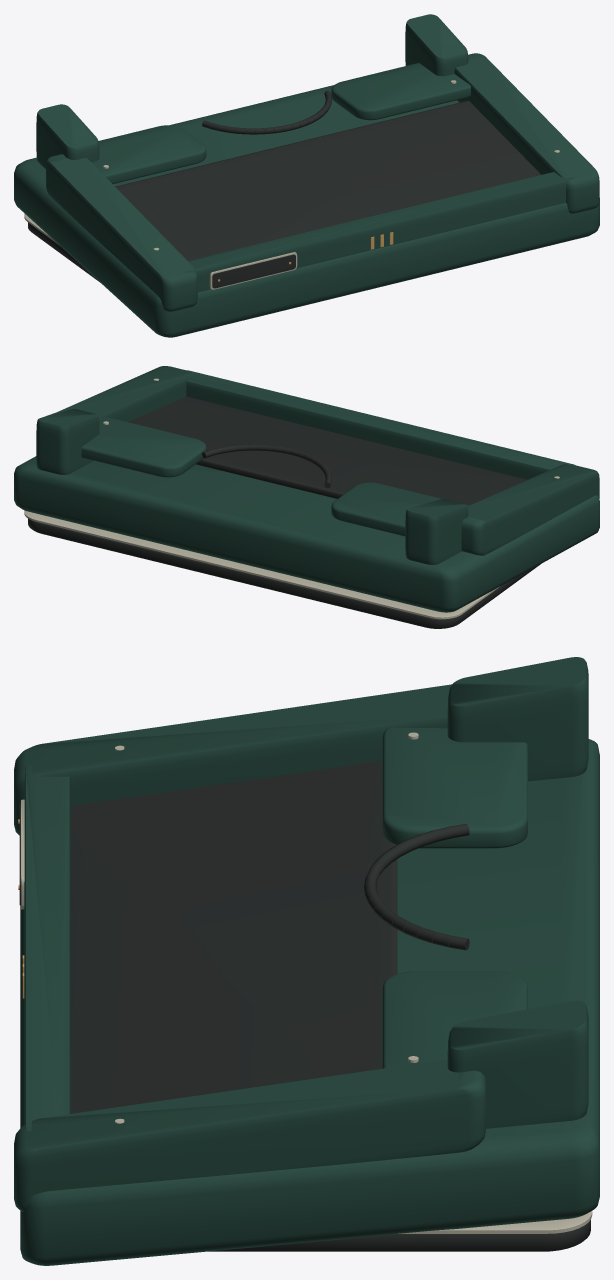
The model's file is Atelier.glb.
3 views of the same model, one above another, from view 1: azimuth 30°, elevation 25°; view 2: azimuth 150°, elevation 25°; view 3: azimuth 270°, elevation 25° (orthographic). The views are drawn at different scales.
Visible parts, largest first — view 1: Keyboard well, Cast chassis, Enamel cheek (×2), Front fascia, Spool platform (×2), Carriage bearing (×2), Maker plate, Badge surround, Rolled lower pan; view 2: Cast chassis, Keyboard well, Enamel cheek (×2), Front fascia, Spool platform (×2), Carriage bearing (×2), Rolled lower pan, Chassis parting seam; view 3: Keyboard well, Cast chassis, Enamel cheek (×2), Carriage bearing (×2), Spool platform (×2), Front fascia, Rolled lower pan, Chassis parting seam.
Boxes of the visible parts, x1,y1,x2,y2 form: Keyboard well: [115, 100, 540, 260]; Cast chassis: [14, 85, 599, 337]; Enamel cheek (×2): [46, 53, 599, 311]; Front fascia: [184, 172, 576, 292]; Spool platform (×2): [91, 63, 470, 183]; Carriage bearing (×2): [36, 14, 468, 168]; Maker plate: [212, 254, 295, 288]; Badge surround: [209, 252, 297, 289]; Rolled lower pan: [28, 222, 100, 282]; Cast chassis: [14, 456, 599, 612]; Keyboard well: [128, 396, 527, 505]; Enamel cheek (×2): [58, 366, 599, 555]; Front fascia: [184, 370, 576, 479]; Spool platform (×2): [81, 417, 468, 536]; Carriage bearing (×2): [36, 408, 468, 564]; Rolled lower pan: [28, 519, 540, 628]; Chassis parting seam: [24, 510, 499, 619]; Keyboard well: [70, 760, 397, 1113]; Cast chassis: [20, 739, 599, 1265]; Enamel cheek (×2): [14, 684, 485, 1211]; Carriage bearing (×2): [447, 657, 588, 1128]; Spool platform (×2): [382, 728, 527, 1068]; Front fascia: [24, 765, 70, 1130]; Rolled lower pan: [209, 1220, 590, 1251]; Chassis parting seam: [398, 1211, 592, 1233].
Size of the model in its own units: 7 by 1.81 by 4.2.
